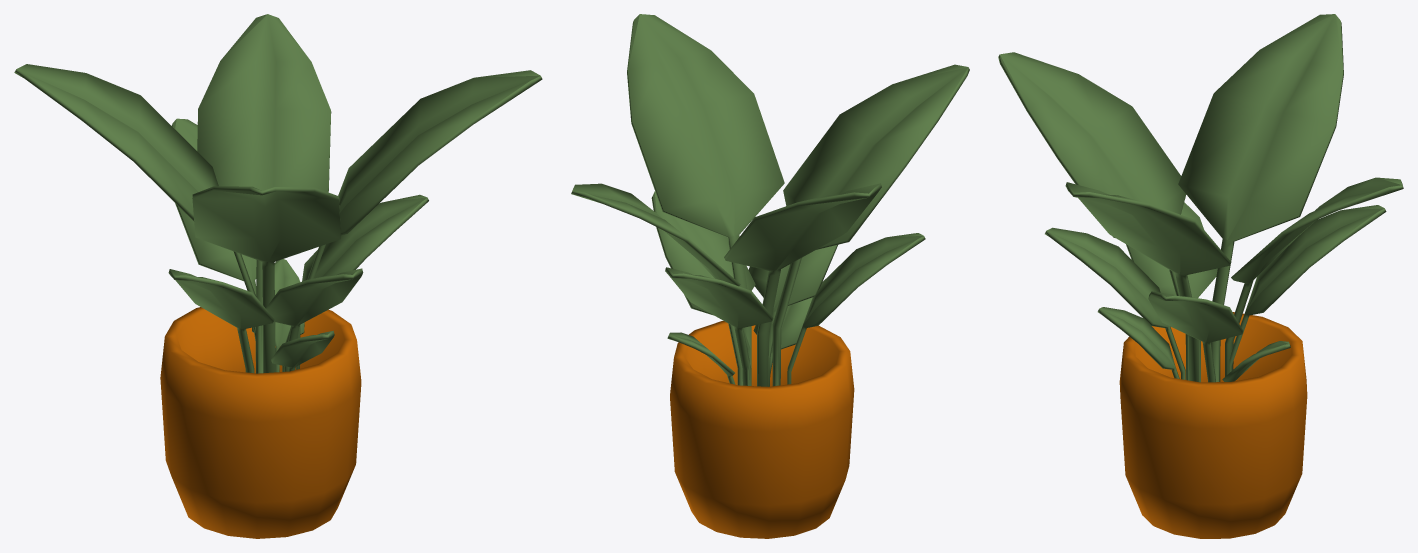
The model's file is Tanaman.fbx.
The picture shows the model from 3 angles, left to right: view 1: azimuth 30°, elevation 25°; view 2: azimuth 150°, elevation 25°; view 3: azimuth 270°, elevation 25°; orthographic projection. The views are drawn at different scales.
Visible parts, largest first — view 1: pot; view 2: pot; view 3: pot.
Boxes of the visible parts, bbox=[...] form: pot: bbox=[14, 14, 542, 538]; pot: bbox=[571, 14, 969, 538]; pot: bbox=[998, 14, 1403, 538].
Size of the model in its own units: 670 by 713 by 638.
